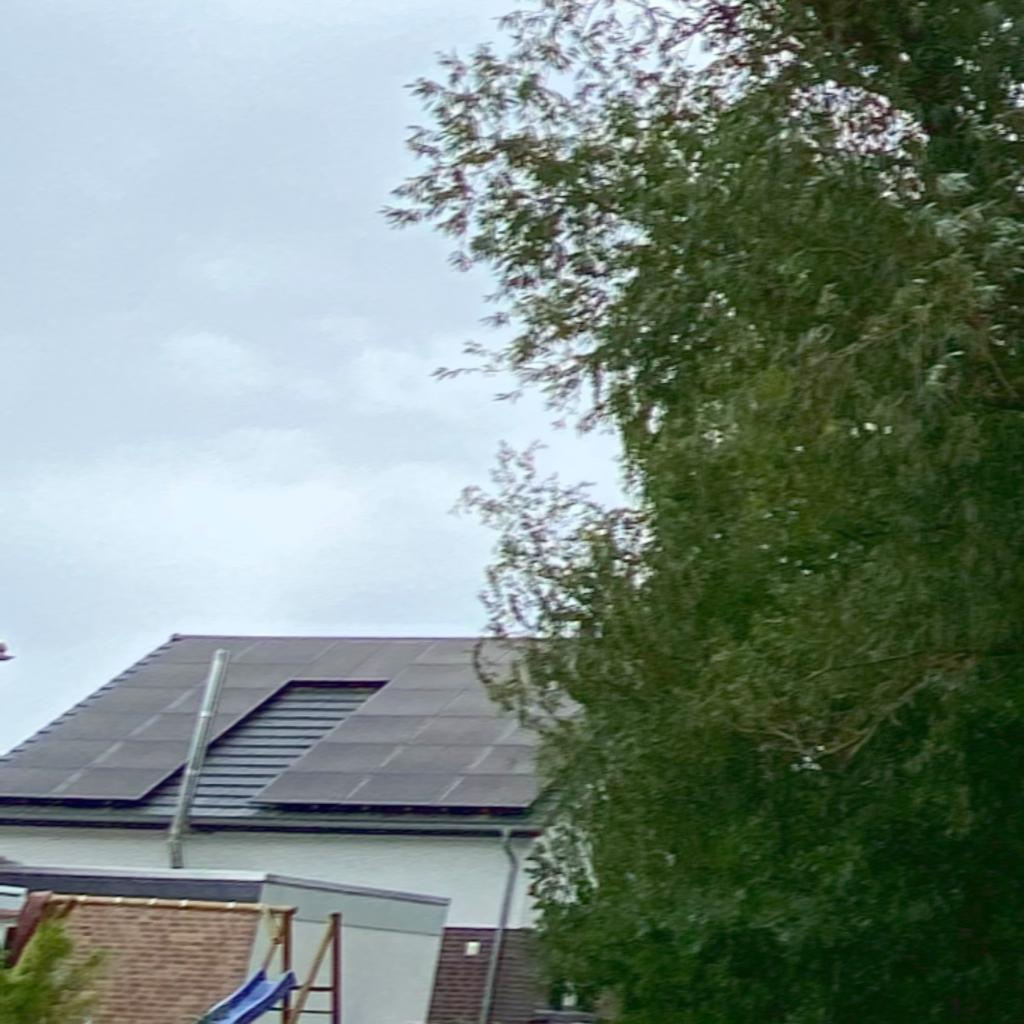tree: (373, 1, 1023, 1023)
